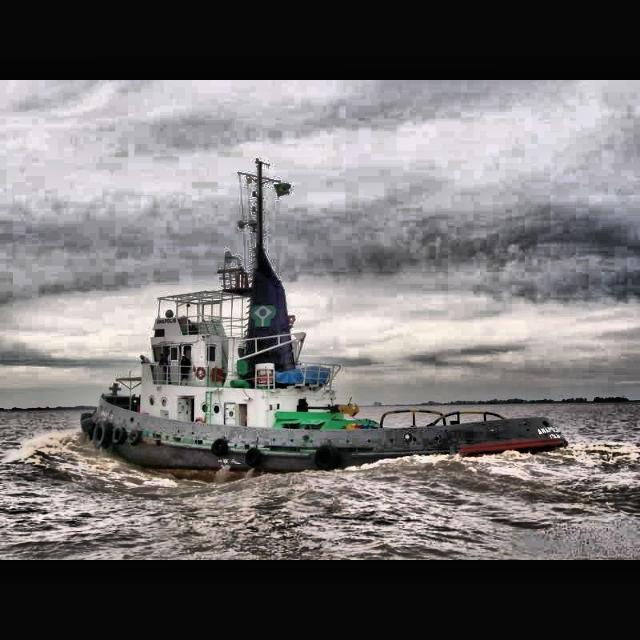tug: (80, 250, 570, 486)
